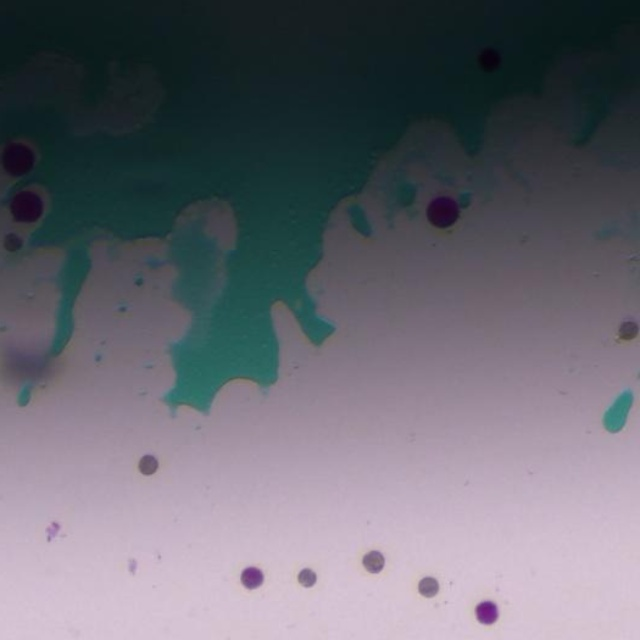non_viable: (362, 550, 384, 573), (417, 575, 439, 597), (618, 318, 639, 340), (138, 453, 158, 475), (297, 568, 316, 586), (4, 233, 23, 251)
viable: (1, 141, 35, 177), (427, 195, 460, 229), (10, 190, 43, 222), (478, 46, 501, 72), (240, 566, 263, 589), (475, 600, 497, 624)
